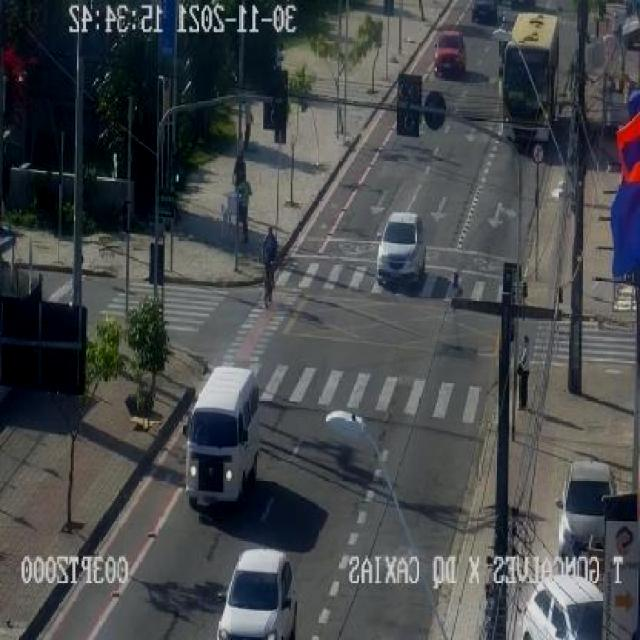Bus: (183, 369, 261, 505), (501, 7, 571, 154)
Car: (216, 550, 294, 639), (377, 200, 438, 299), (558, 461, 616, 555), (520, 576, 604, 640), (433, 30, 465, 77), (471, 0, 498, 24)
